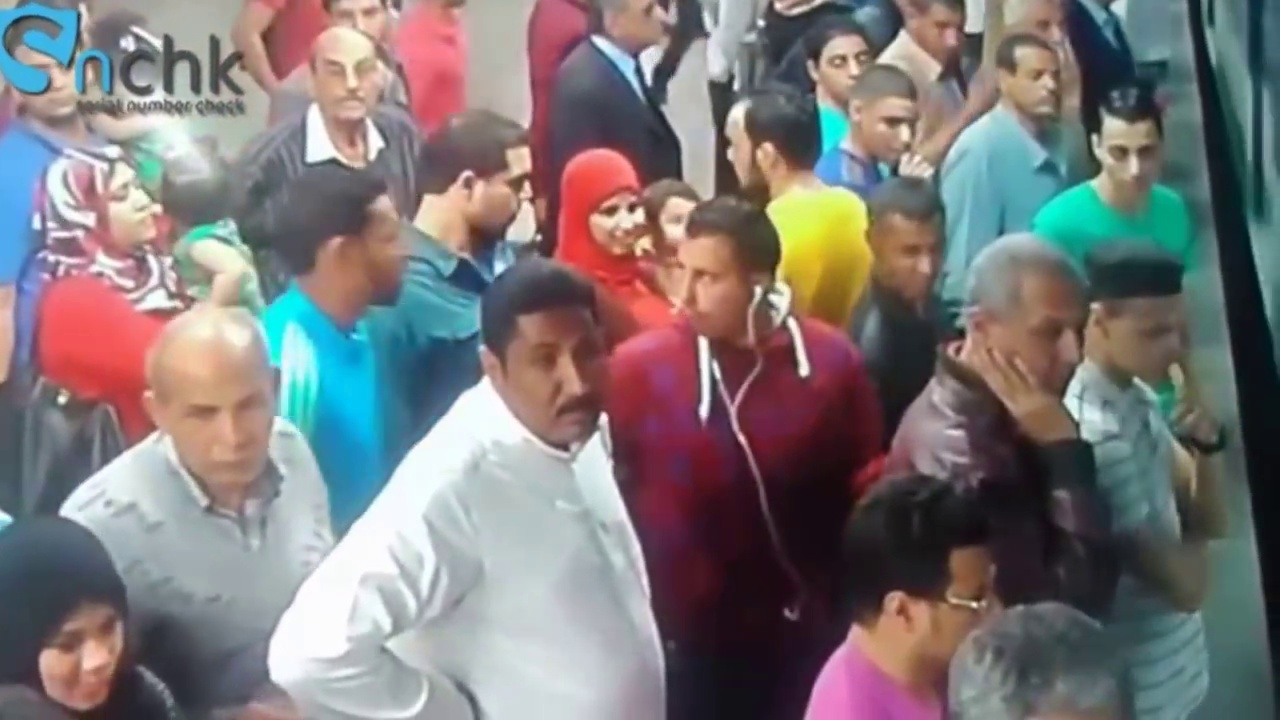face: (157, 373, 266, 486), (503, 320, 603, 440), (40, 607, 124, 710), (1001, 289, 1077, 396), (677, 245, 735, 337), (878, 218, 947, 295), (312, 48, 379, 119), (1123, 295, 1177, 383), (482, 153, 534, 241), (101, 169, 157, 245), (1100, 130, 1161, 192), (865, 98, 918, 165), (589, 192, 645, 255), (911, 6, 972, 63), (618, 0, 679, 56), (1008, 52, 1056, 119), (813, 35, 863, 88), (727, 111, 756, 186), (333, 4, 394, 35)
